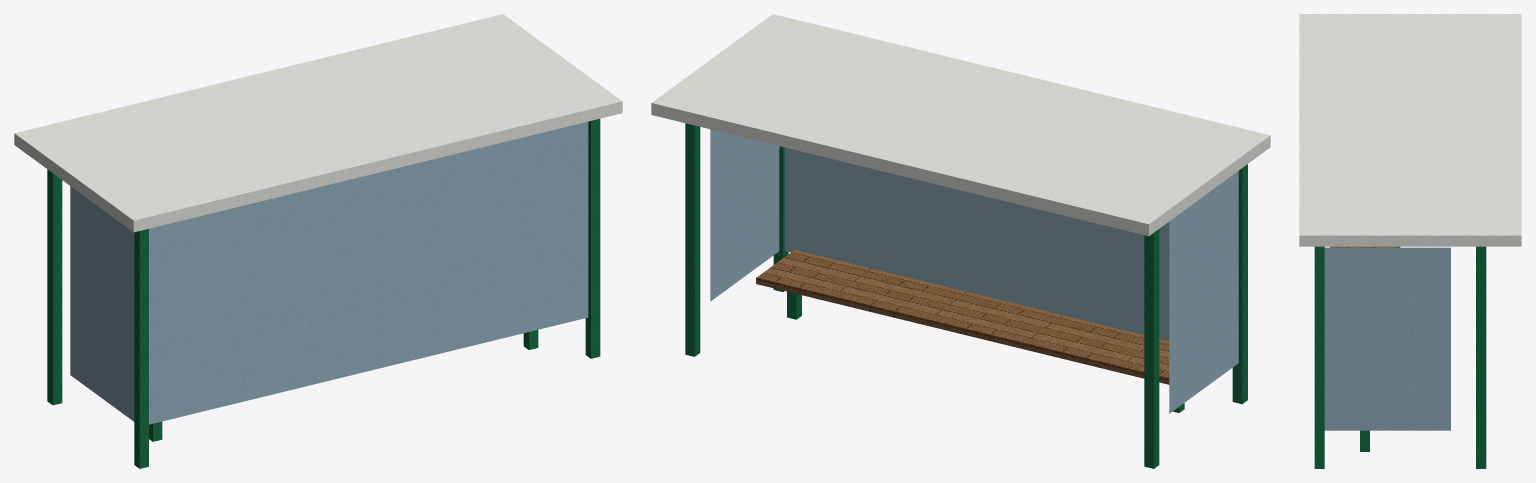
Rendered from waiting_shelter.glb.
3 renders of one model, left to right at view 1: azimuth 30°, elevation 25°; view 2: azimuth 150°, elevation 25°; view 3: azimuth 270°, elevation 25°, orthographic. The views are drawn at different scales.
Visible parts, largest first — view 1: waiting_shelter; view 2: waiting_shelter; view 3: waiting_shelter.
Part boxes in pixels (box(x1,y1,x2,y2)): waiting_shelter: box(14, 14, 622, 468); waiting_shelter: box(651, 14, 1270, 468); waiting_shelter: box(1299, 14, 1521, 468).
Size of the model in its own units: 5.2 by 2.62 by 2.2.
4 materials, 4 textured.
